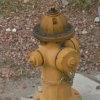Hydrant: (26, 5, 91, 100)
